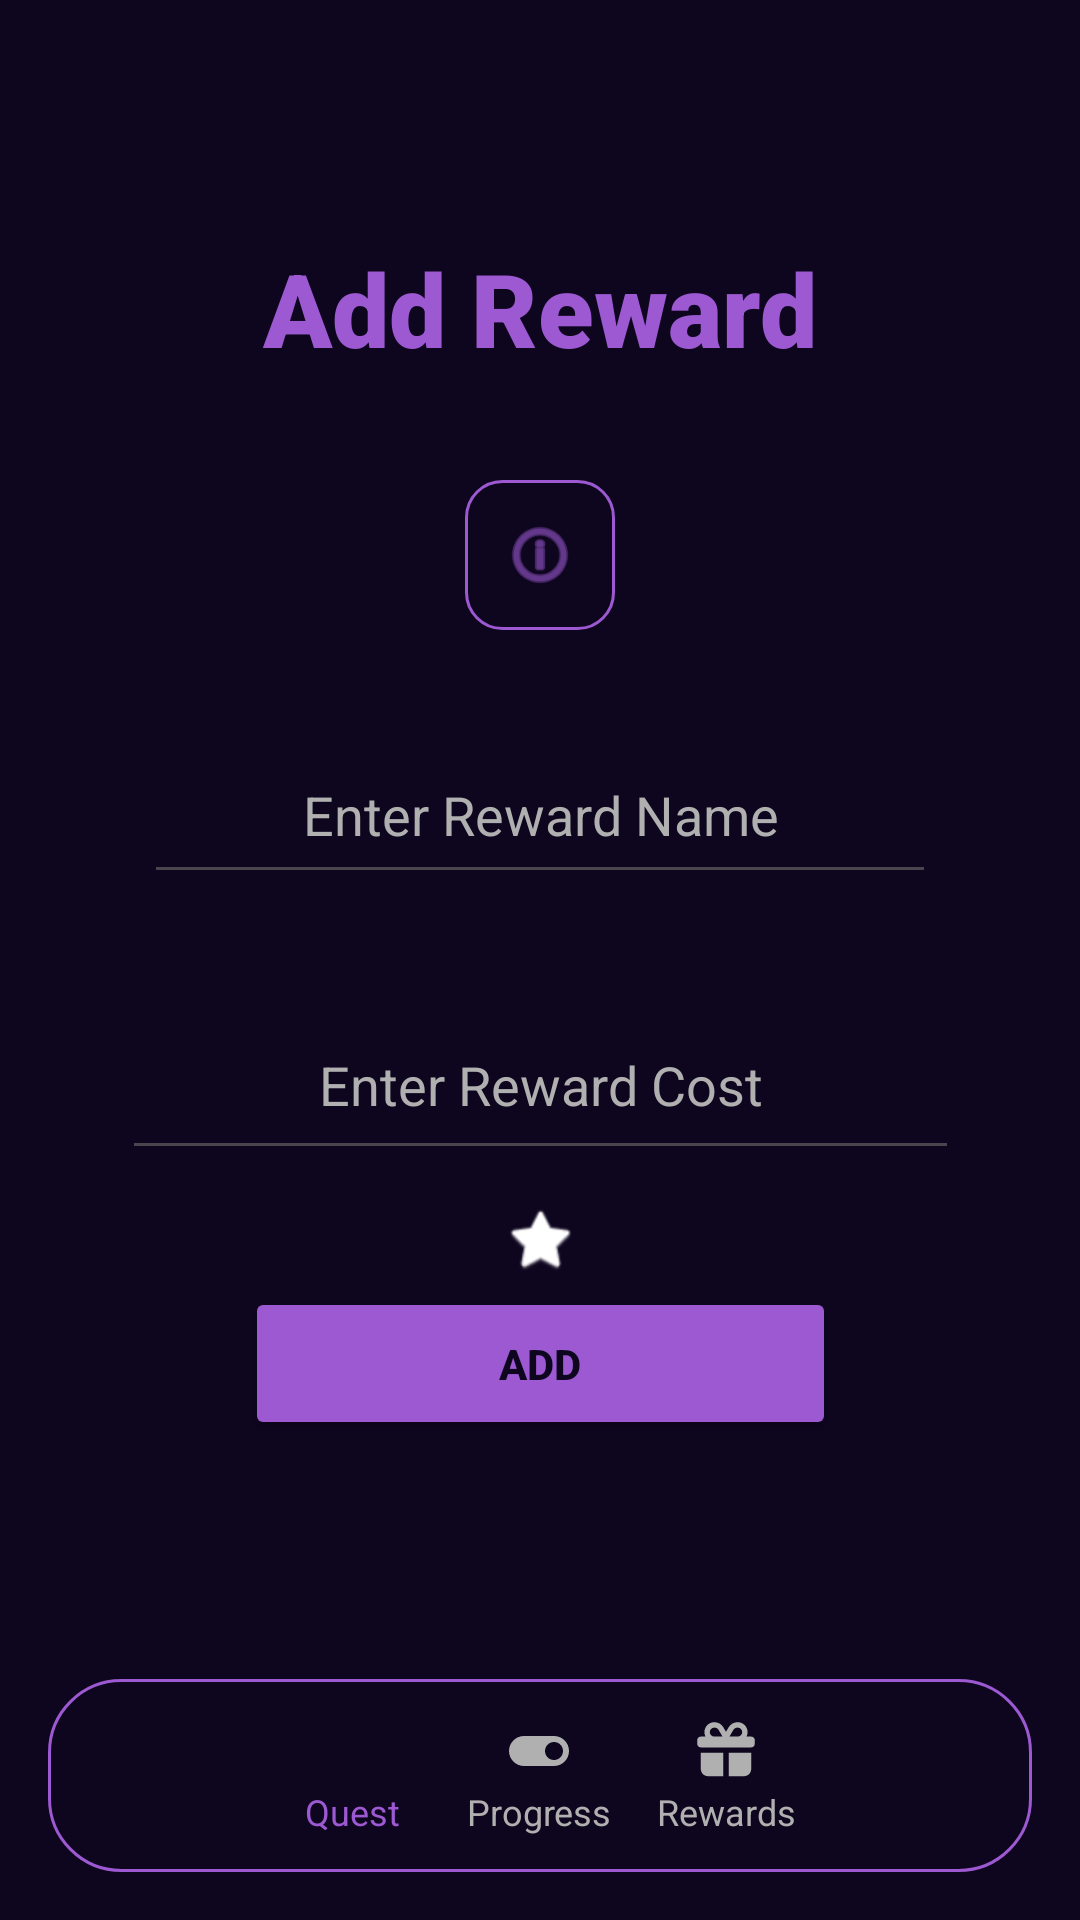

Locate icon controls on the screen. Image size 1080 x 1920, boxes as (x1, y1, x2, y2).
gift: (697, 1722, 755, 1777)
info details: (512, 527, 568, 583)
star on: (510, 1210, 571, 1269)
